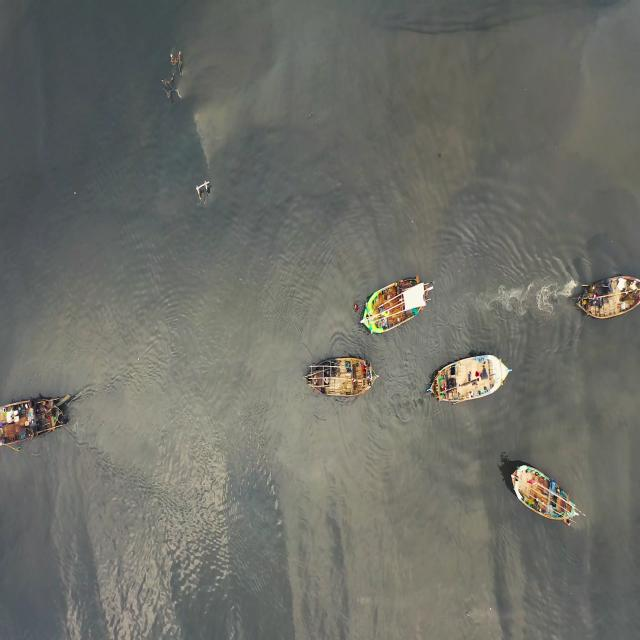ship: (358, 267, 433, 342), (424, 350, 514, 400), (2, 390, 74, 448), (294, 356, 378, 398), (576, 266, 636, 322)
